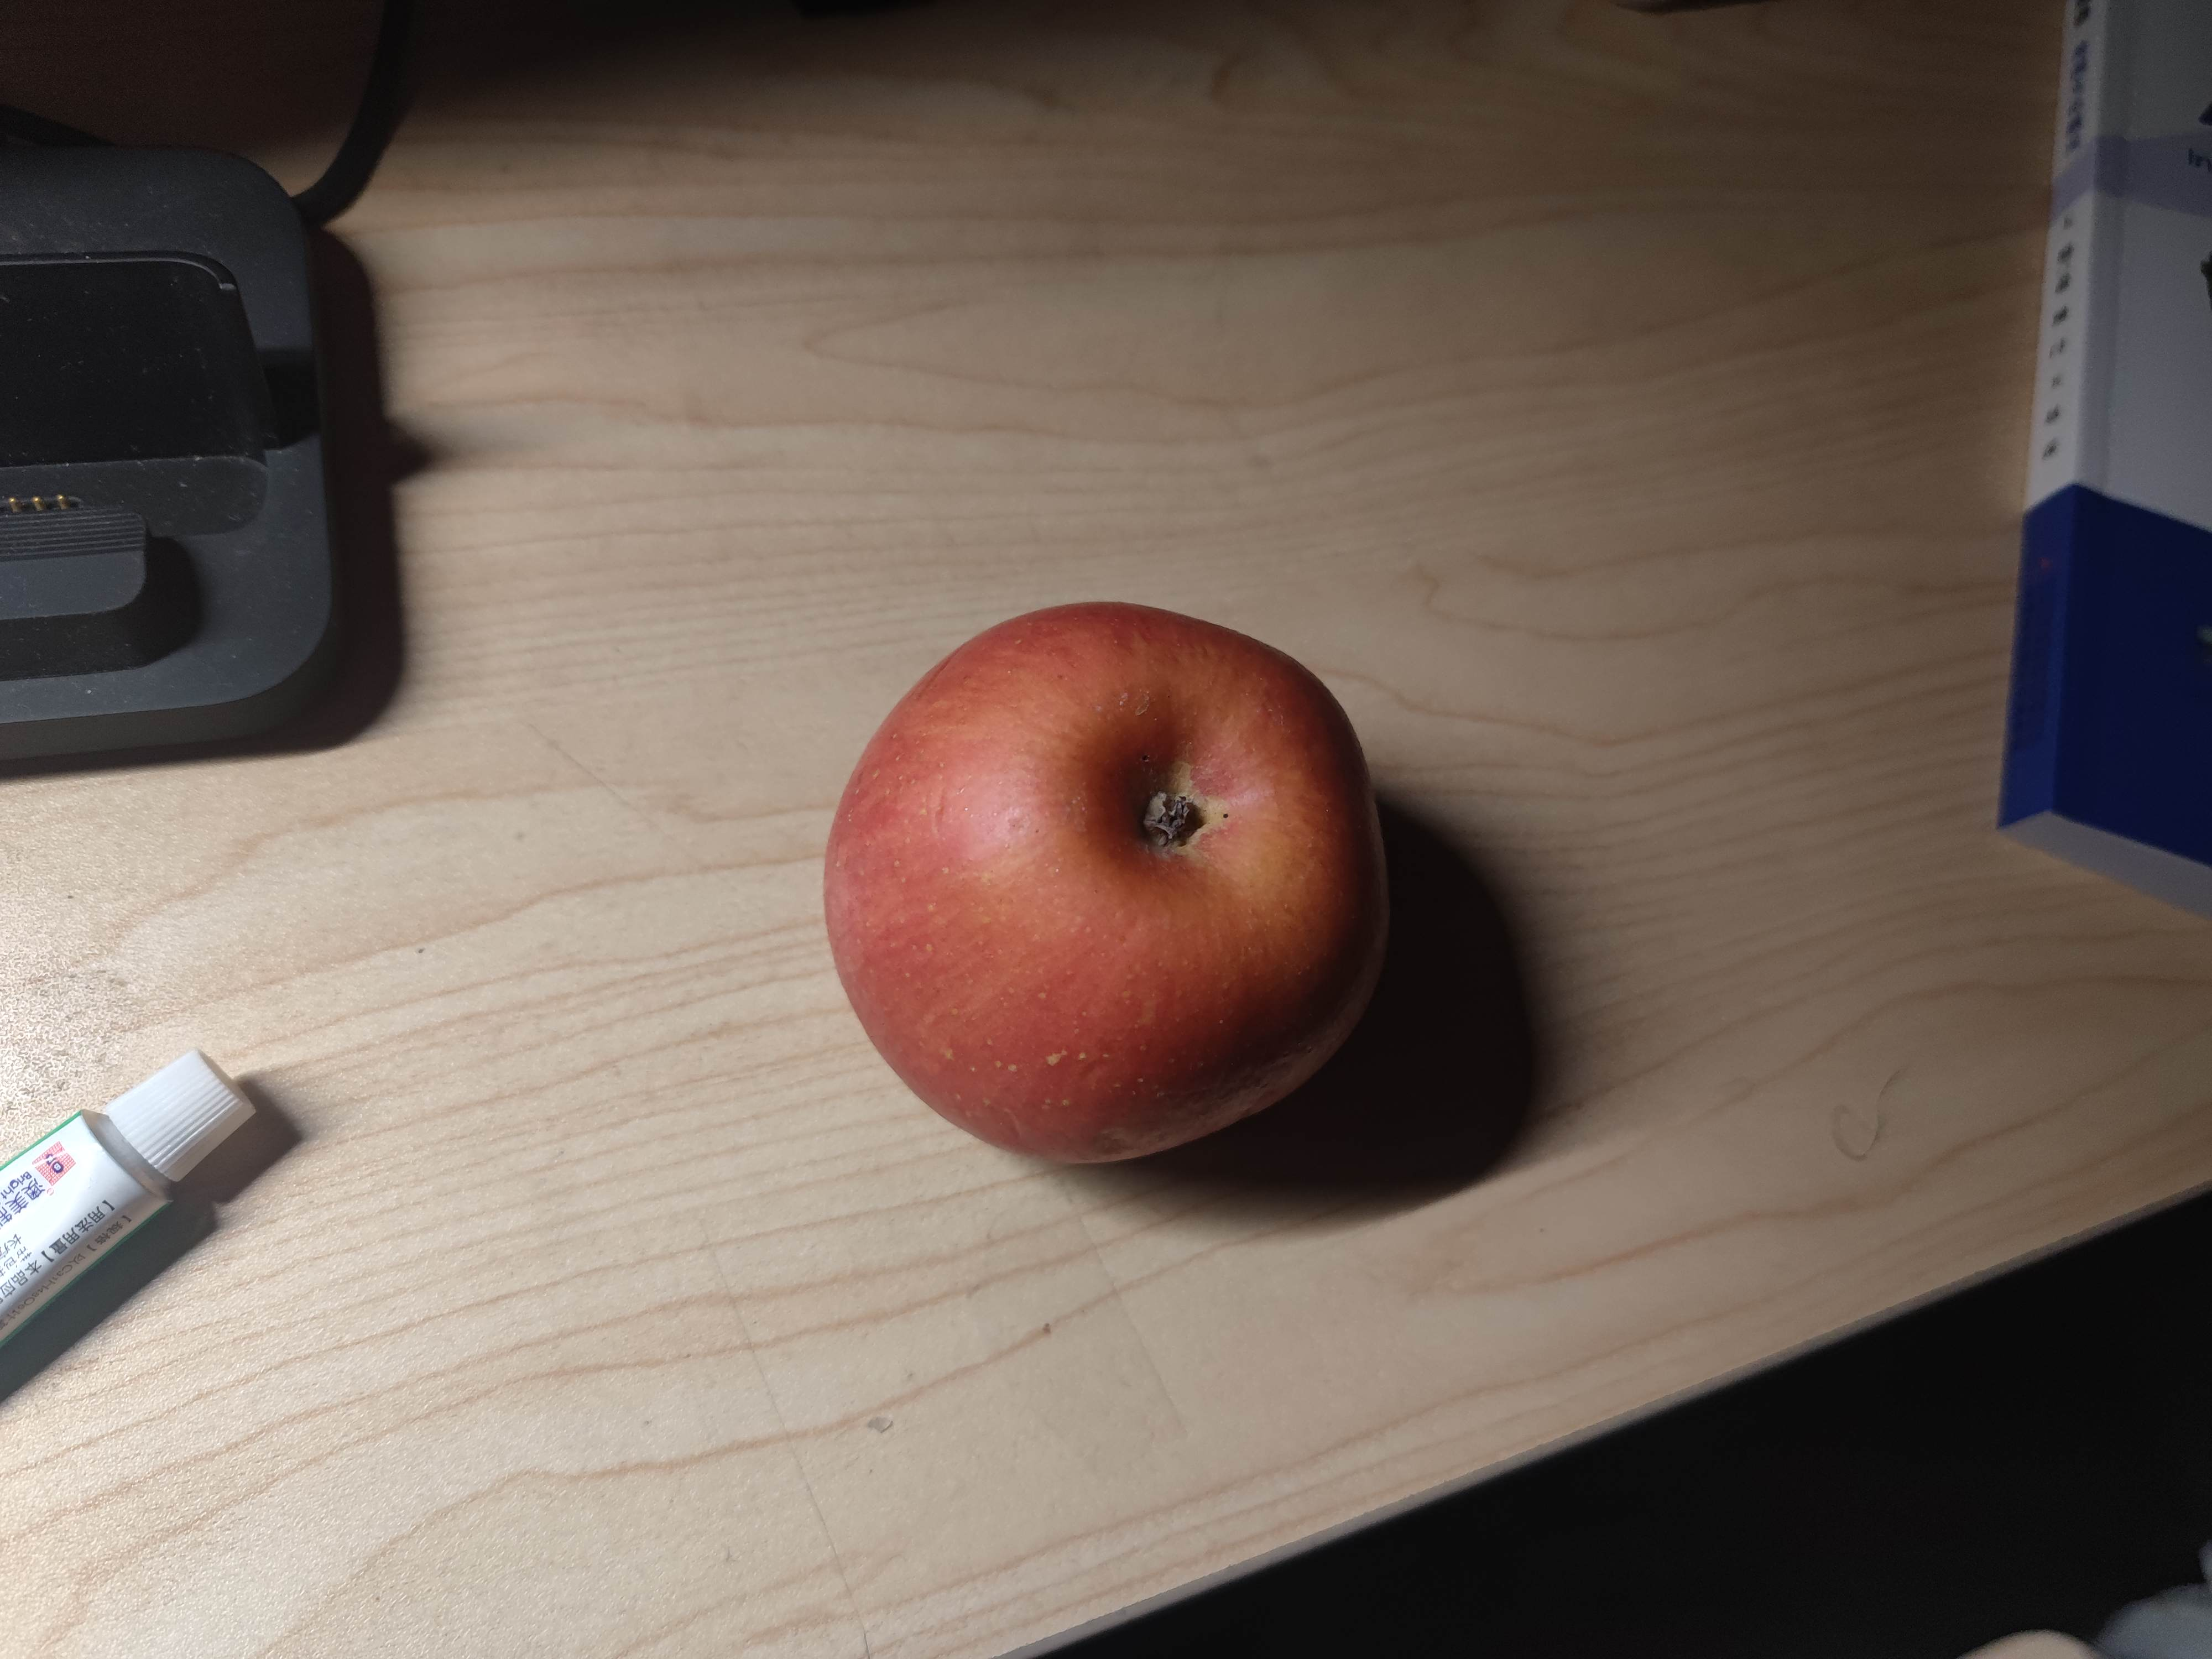apple: (820, 599, 1404, 1176)
